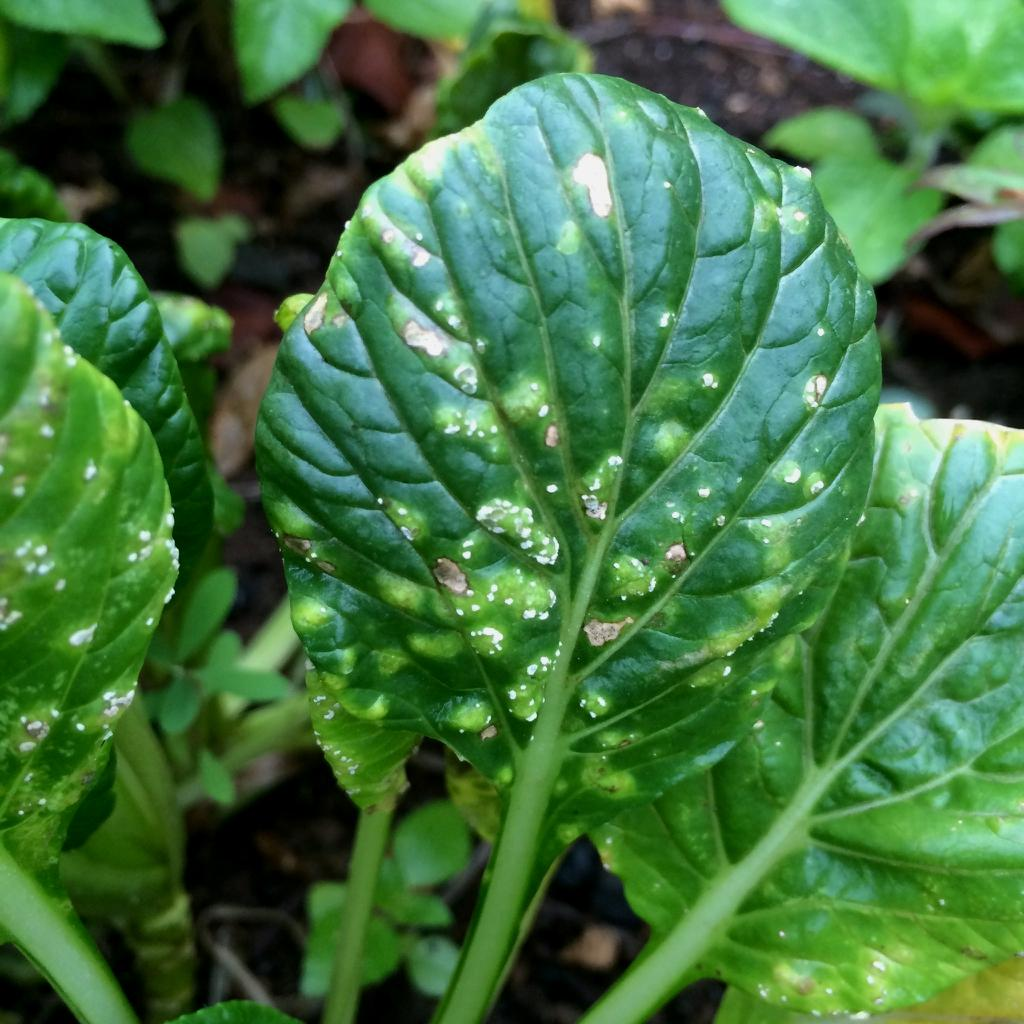Bok-Choy-Diseased: (341, 108, 828, 747)
